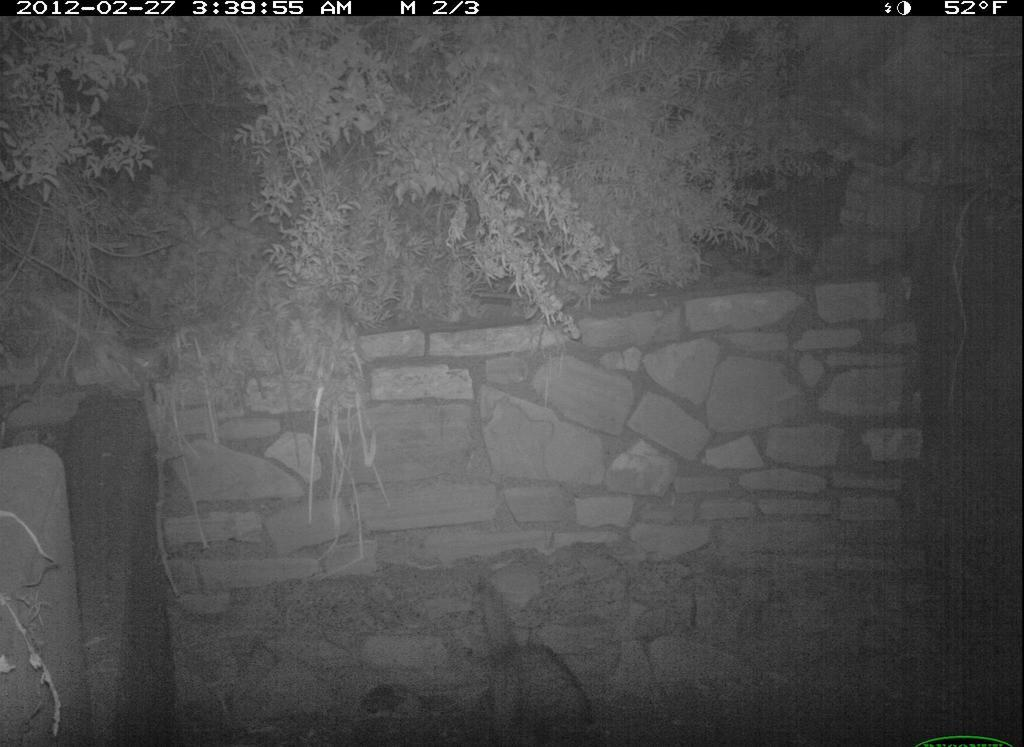raccoon: (468, 578, 612, 747)
